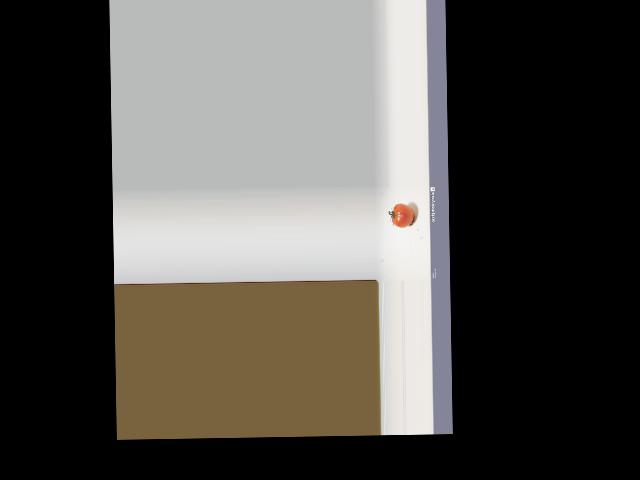tomato: (392, 203, 414, 228)
